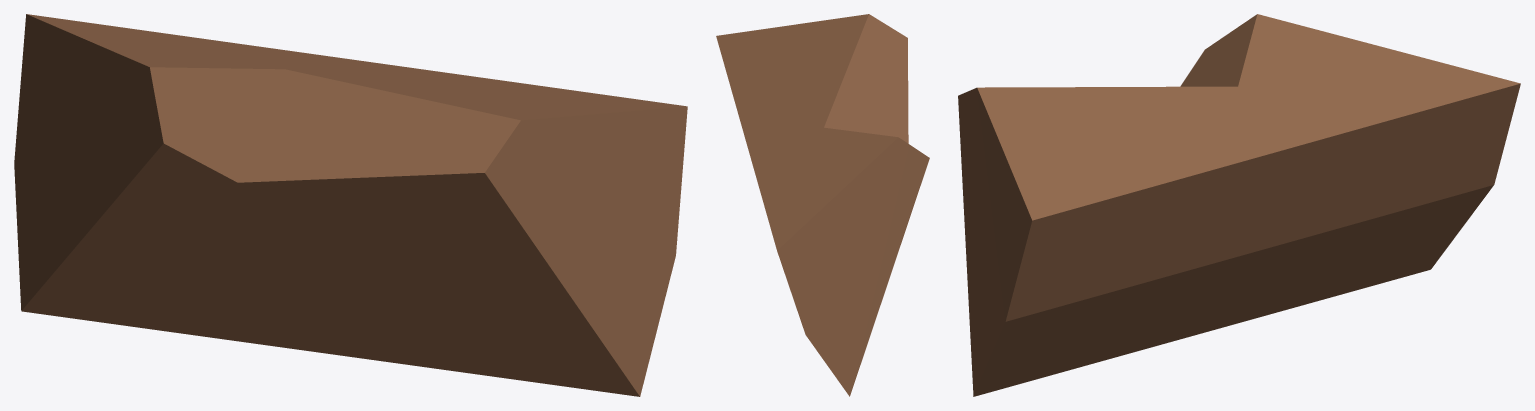
The model's file is WoodCellCube_003_cell_046.fbx.
The picture shows the model from 3 angles, left to right: view 1: azimuth 30°, elevation 25°; view 2: azimuth 150°, elevation 25°; view 3: azimuth 270°, elevation 25°; orthographic projection. The views are drawn at different scales.
Parts seen in each view (by area): view 1: WoodCellCube_003_cell_046; view 2: WoodCellCube_003_cell_046; view 3: WoodCellCube_003_cell_046.
Boxes of the visible parts, <box> form: WoodCellCube_003_cell_046: <box>14,14,687,396</box>; WoodCellCube_003_cell_046: <box>716,14,929,396</box>; WoodCellCube_003_cell_046: <box>958,14,1520,396</box>.
Bounding box in the file's own units: 0.3095 × 0.1703 × 0.2365.
Materials: 1 (1 with a texture image).
